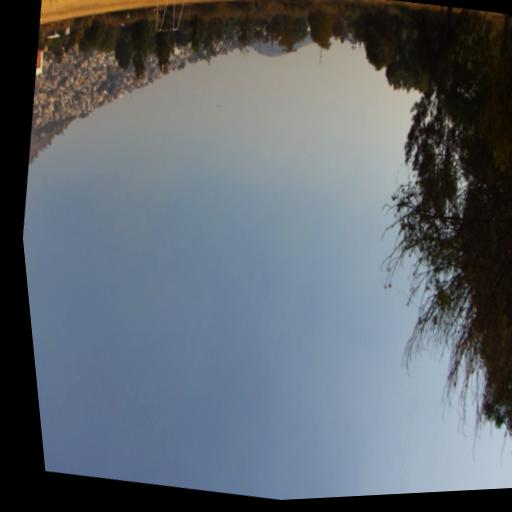drones: (217, 104, 220, 107)
